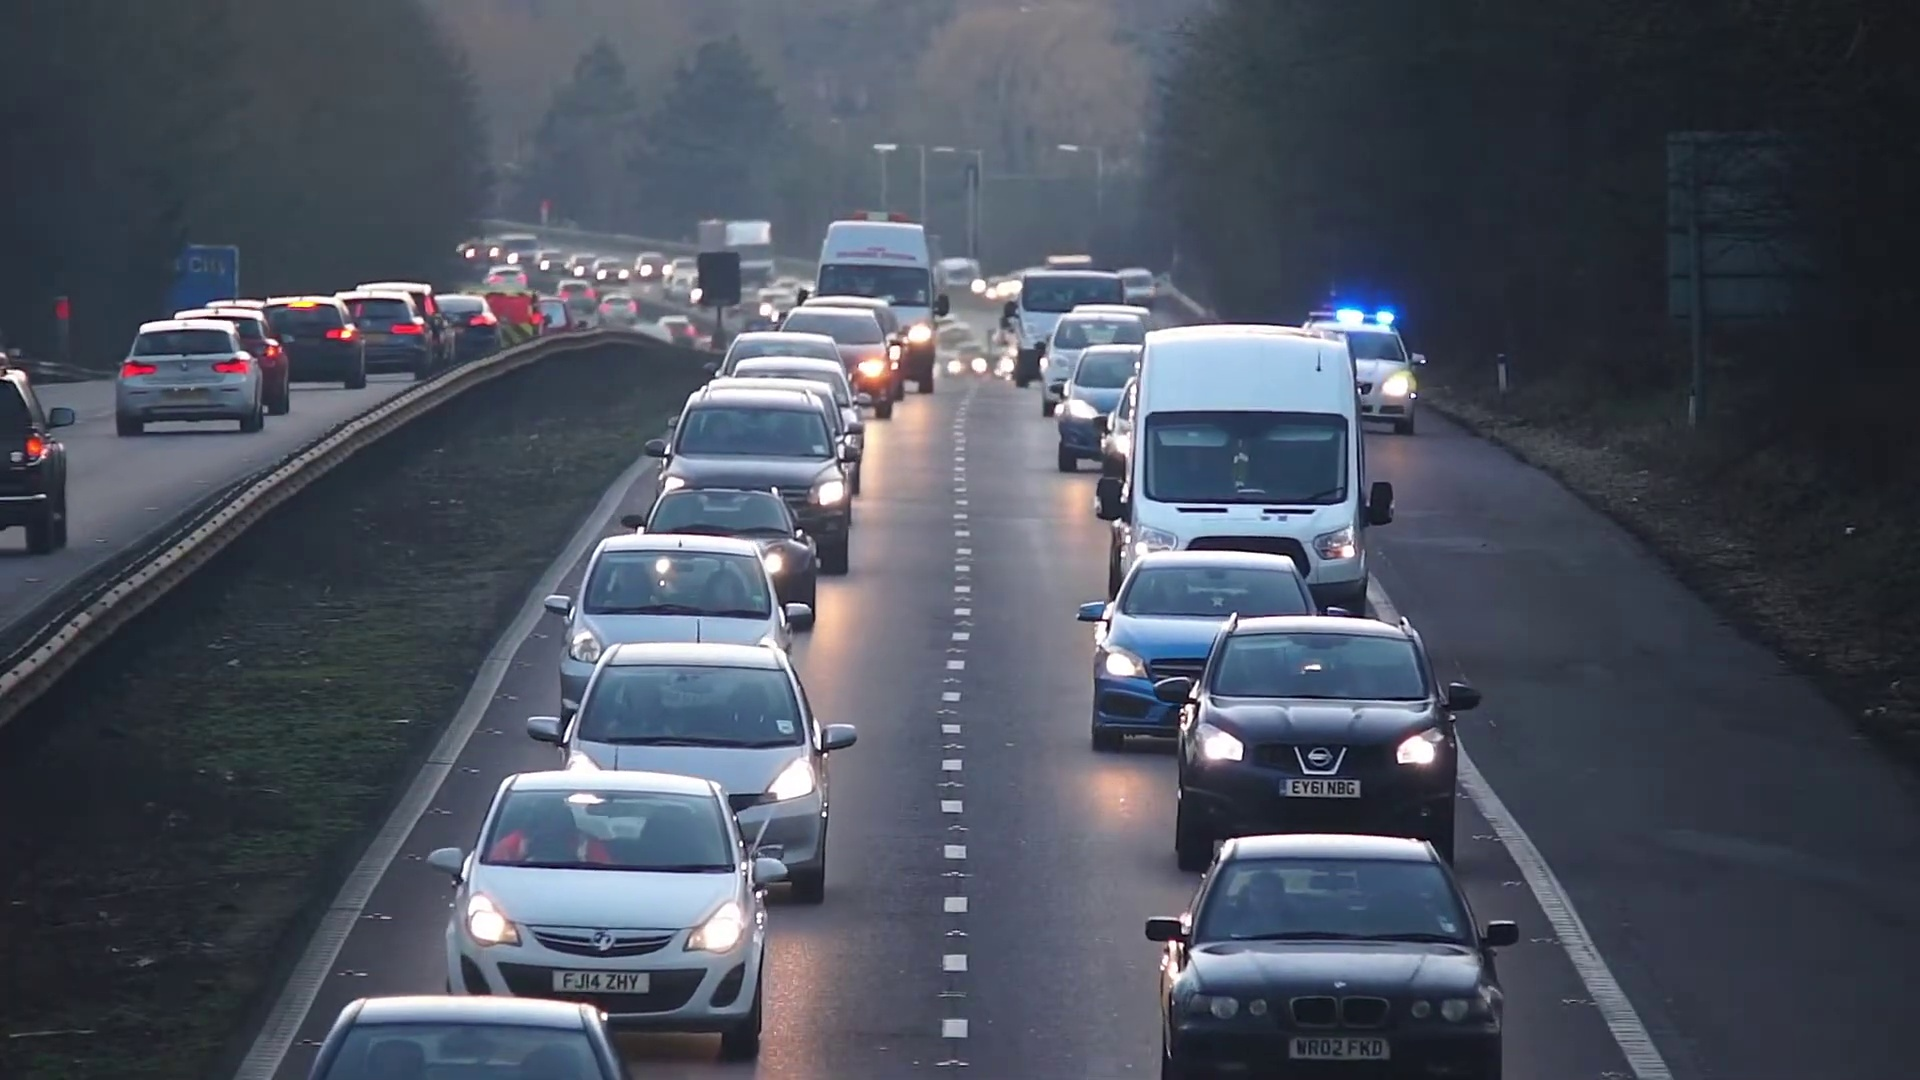license_plate: (1283, 1033, 1395, 1069), (548, 969, 644, 996), (1280, 777, 1364, 803)
